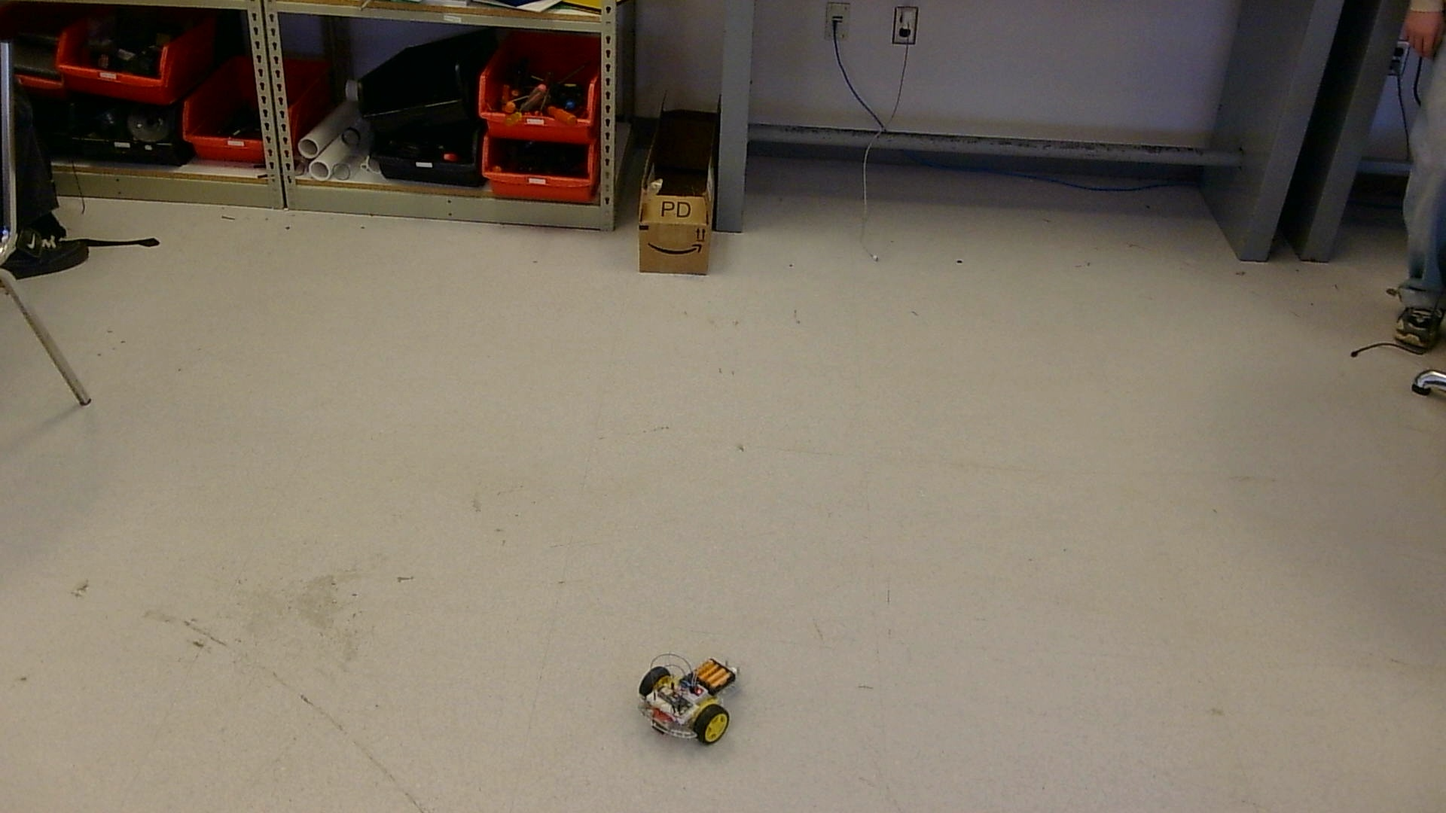robot: (639, 653, 737, 744)
